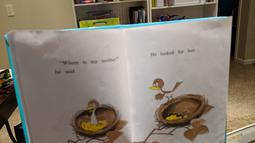text block: (48, 51, 121, 77), (145, 43, 200, 55)
